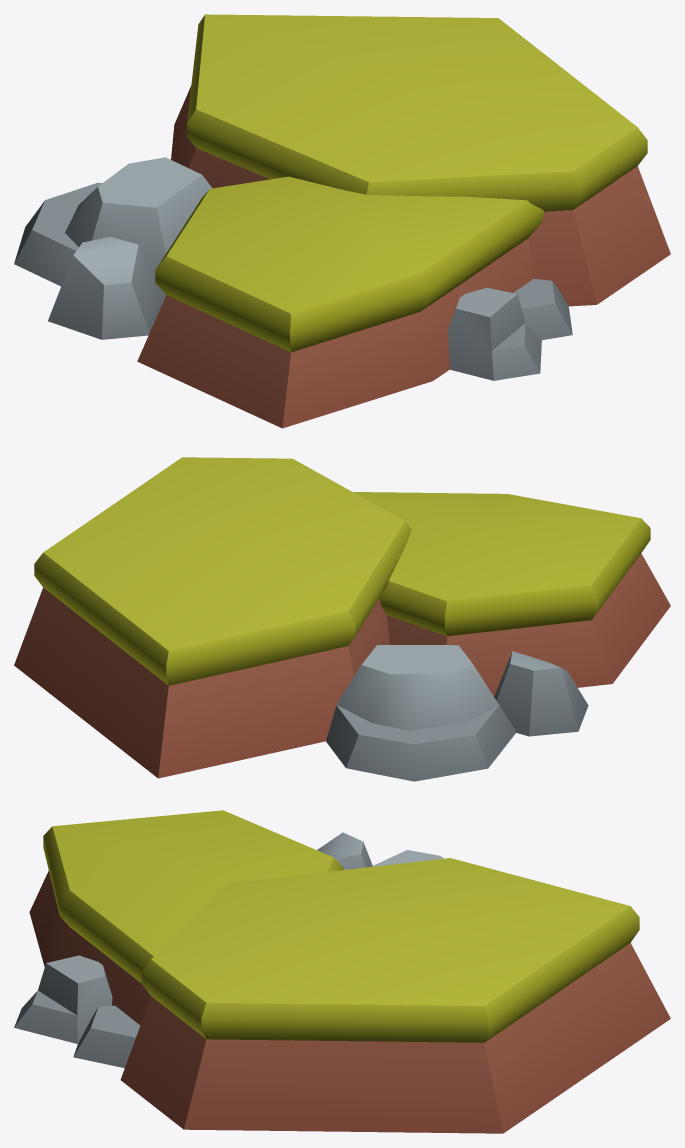
Rendered from hills_B.glb.
3 renders of one model, top to bottom at view 1: azimuth 30°, elevation 25°; view 2: azimuth 150°, elevation 25°; view 3: azimuth 270°, elevation 25°, orthographic. The views are drawn at different scales.
Parts seen in each view (by area): view 1: hills_B; view 2: hills_B; view 3: hills_B.
Boxes of the visible parts, x1,y1,x2,y2 form: hills_B: [14, 14, 670, 428]; hills_B: [14, 457, 670, 781]; hills_B: [14, 810, 670, 1133].
Bounding box in the file's own units: 1.47 × 0.3659 × 1.62.
1 material, 1 textured.
